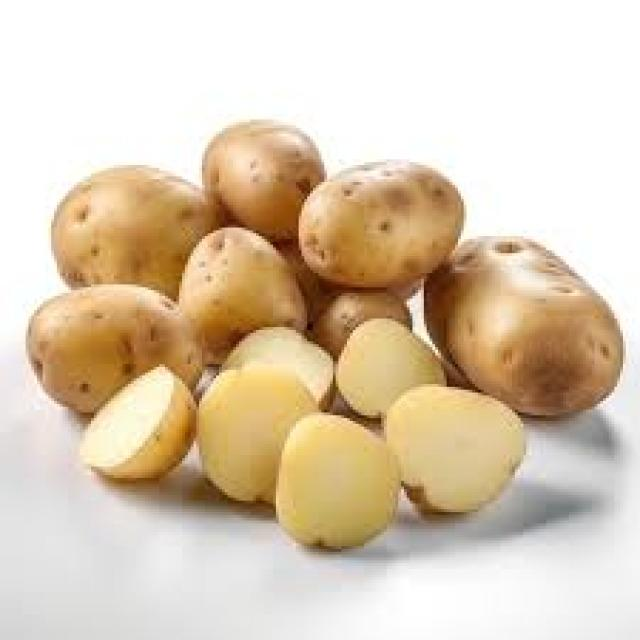Potato: (290, 146, 630, 420), (190, 356, 413, 564), (45, 136, 236, 327), (201, 106, 340, 239)
